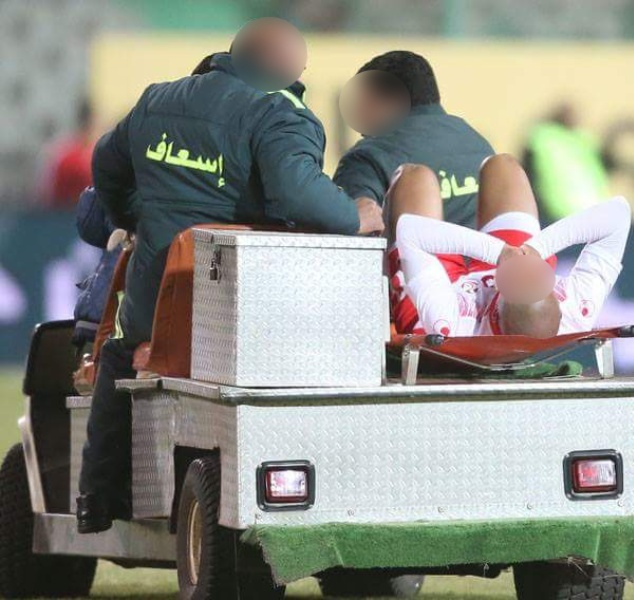text: (161, 126, 176, 191), (177, 126, 192, 191), (193, 126, 208, 191), (209, 126, 224, 191), (151, 126, 160, 191), (449, 166, 464, 203), (465, 166, 479, 203), (439, 166, 448, 203), (225, 126, 227, 191)
